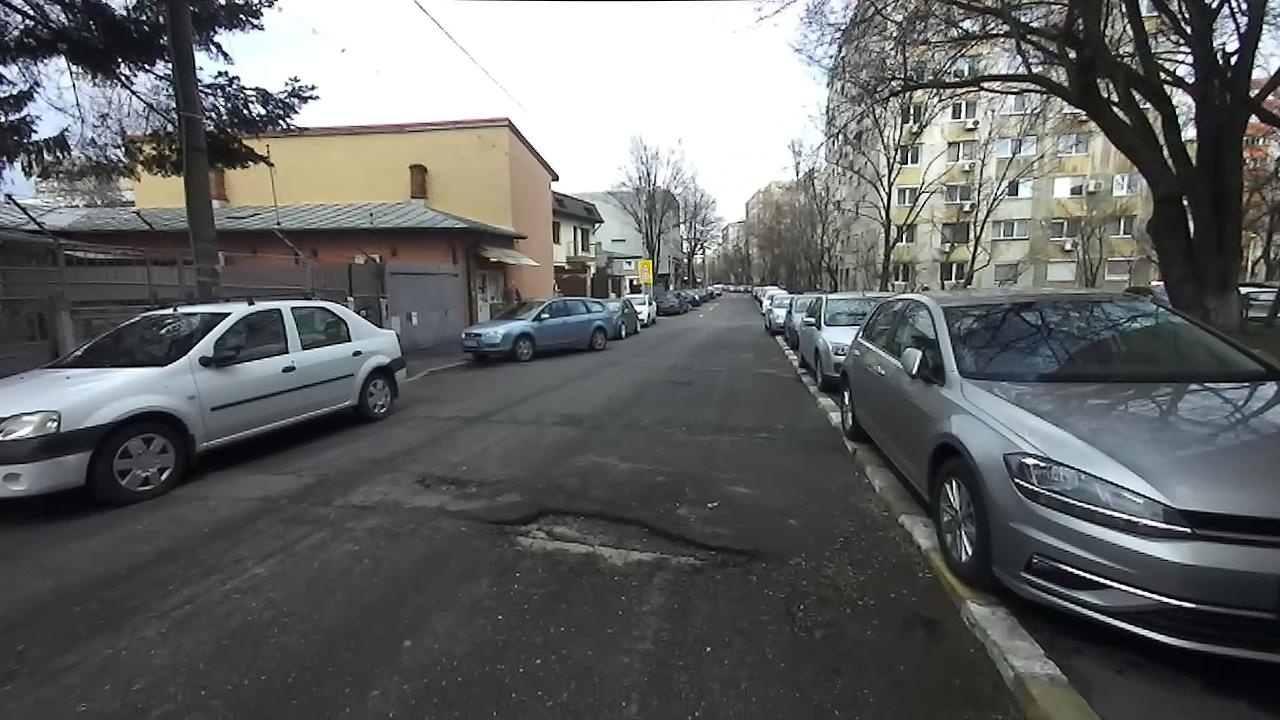pothole: (484, 501, 773, 578), (407, 465, 499, 496)
